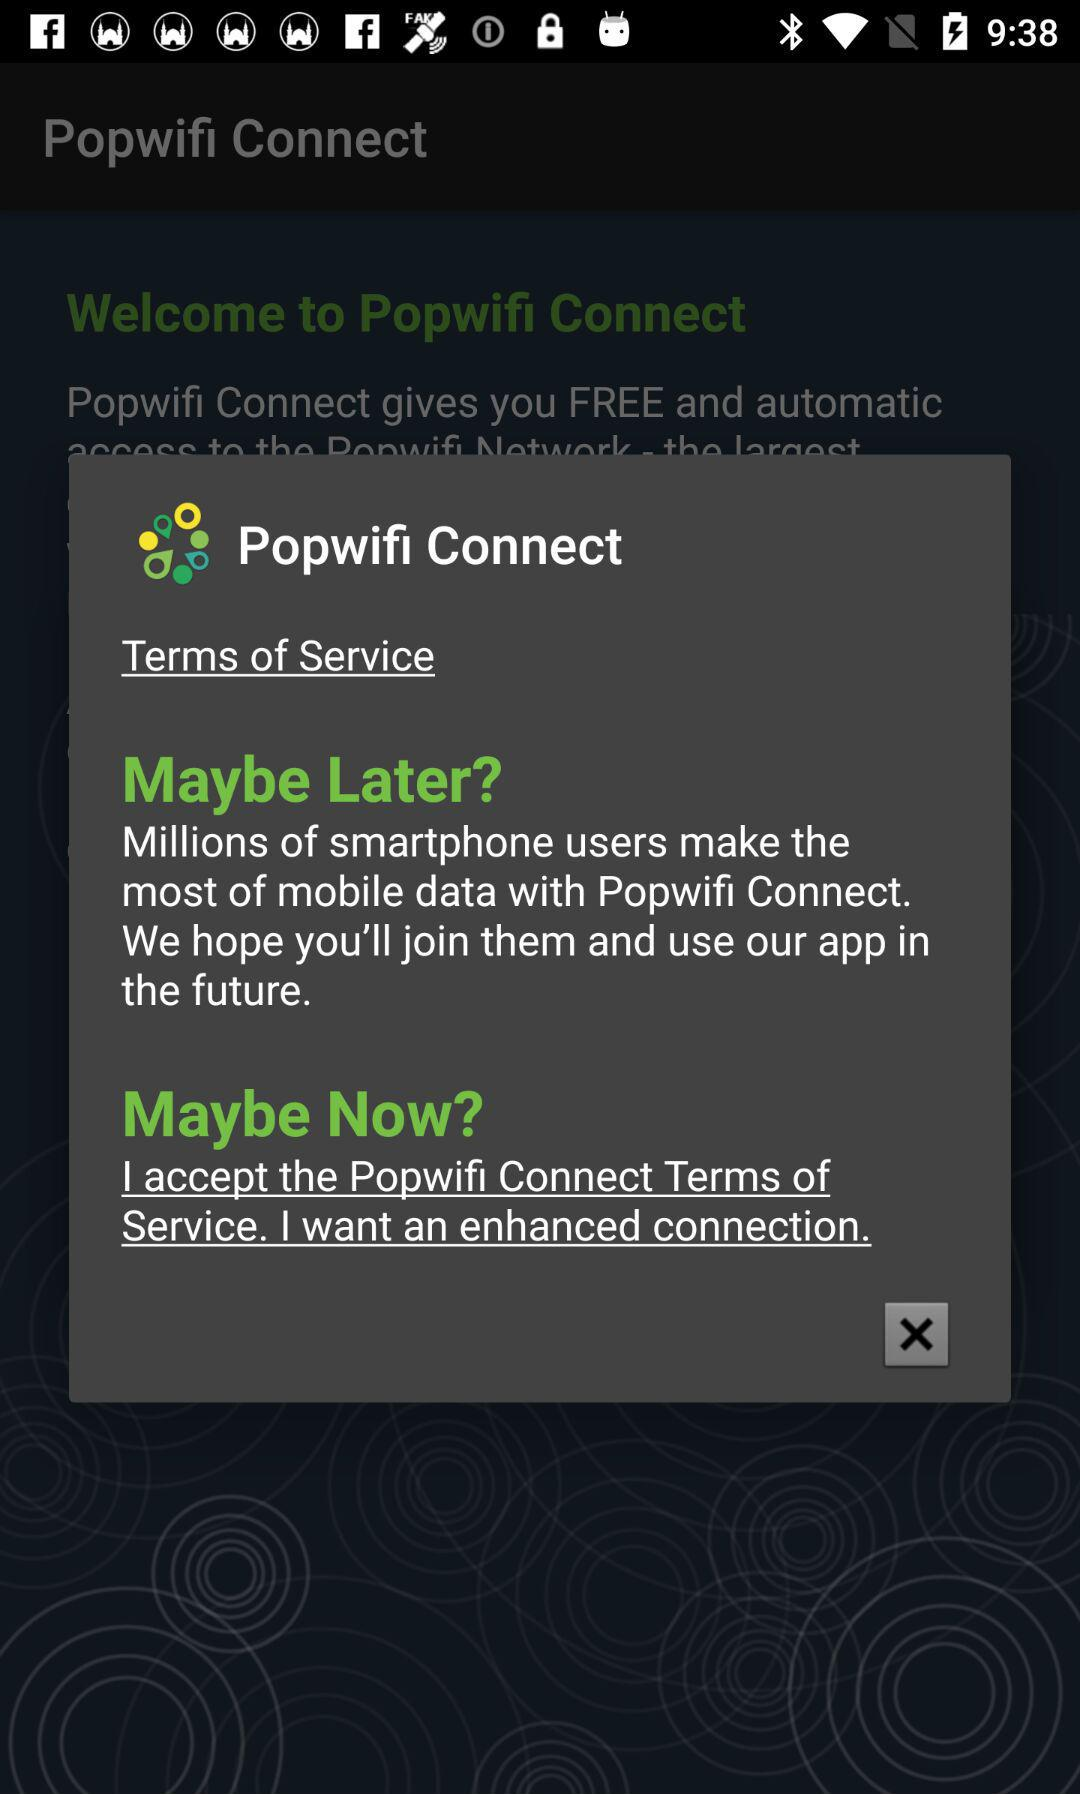Icon: (884, 1303, 948, 1367)
Image: (133, 504, 214, 584)
Modal: (70, 457, 1011, 1403)
Text: (123, 825, 929, 1008), (69, 386, 943, 428), (67, 291, 748, 343), (126, 753, 502, 816), (126, 1090, 483, 1149), (240, 523, 630, 577), (45, 117, 427, 170), (122, 639, 436, 679)
TextButton: (118, 1161, 871, 1249)
UpperTaskBar: (1, 1, 1080, 64)
